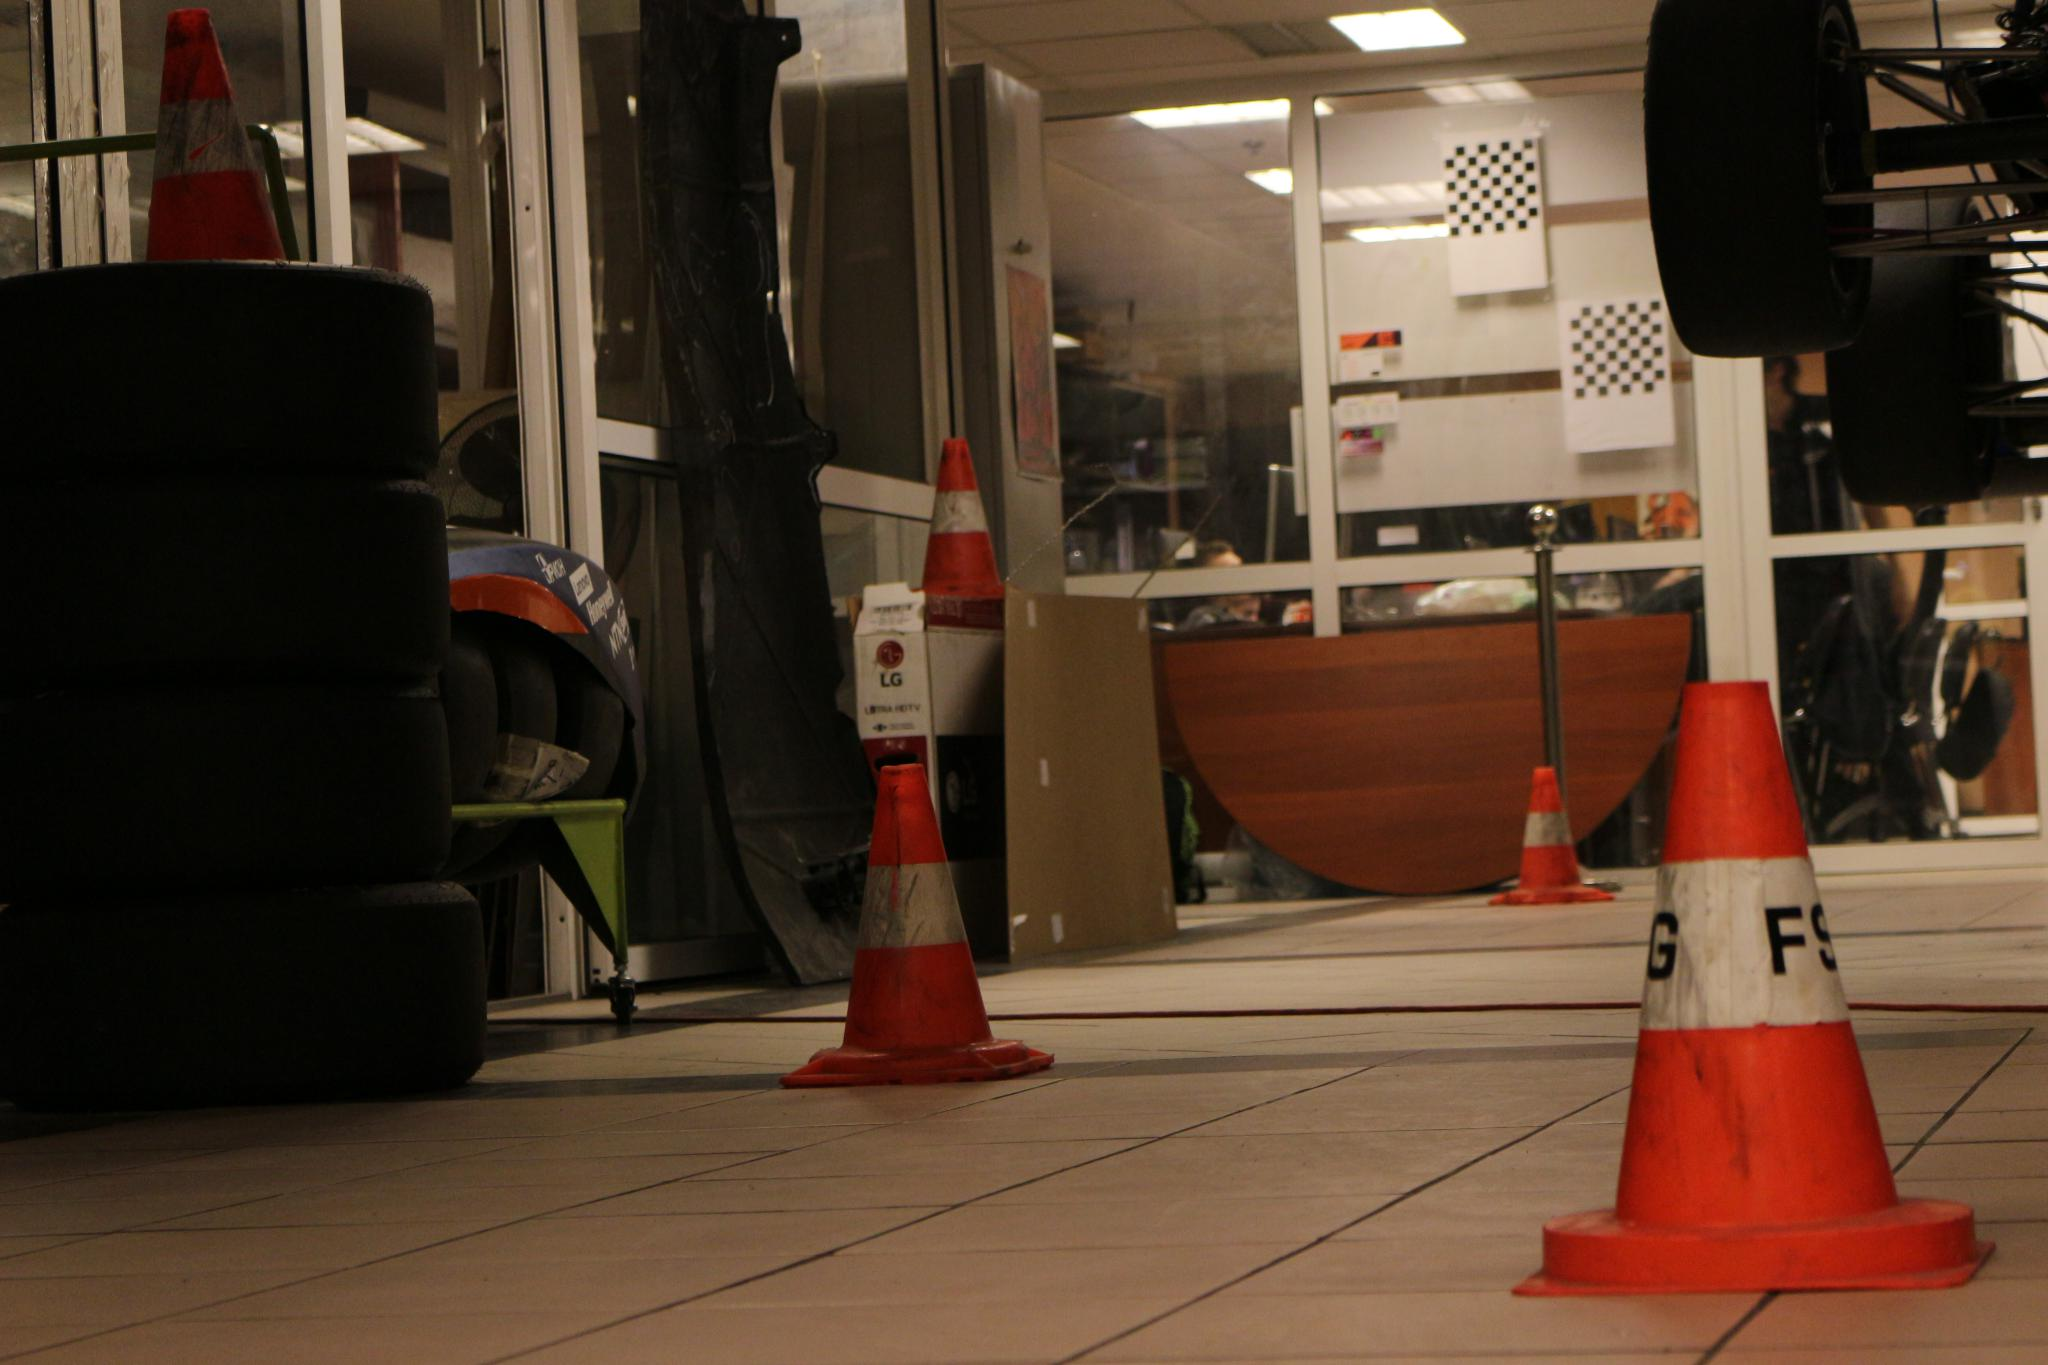Orange_Cone: (1527, 657, 1960, 1286), (818, 751, 1049, 1094), (111, 5, 315, 280), (906, 417, 1019, 608), (1488, 763, 1611, 902)
